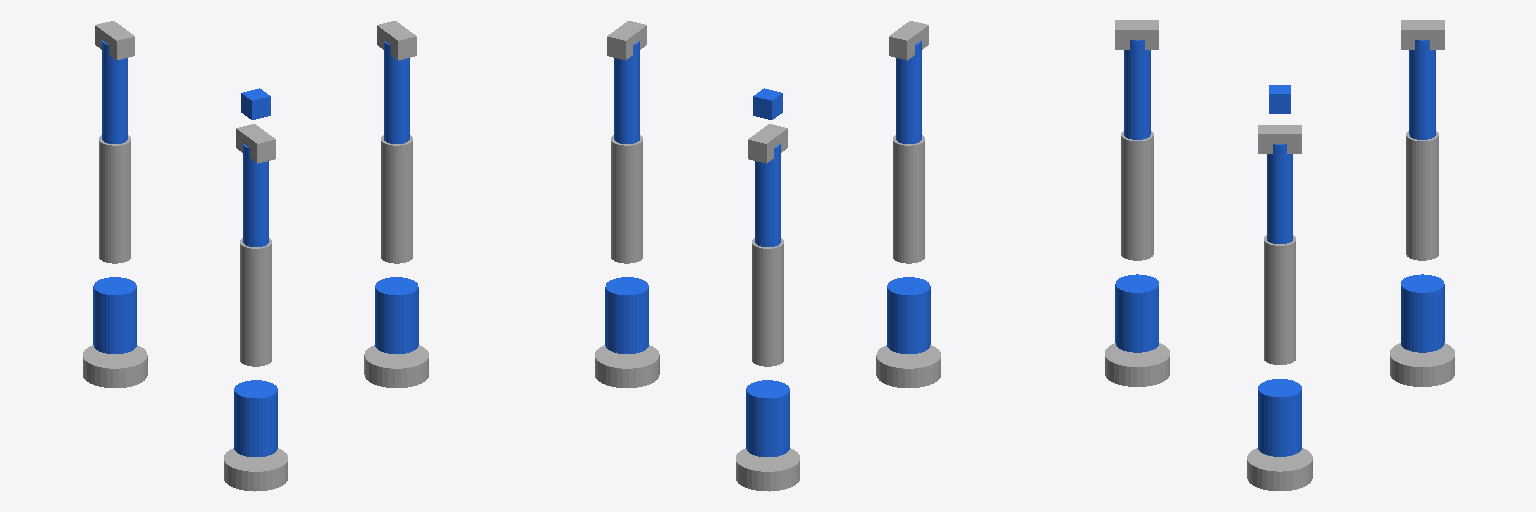
The robot description file, URDF, robot "three_4dof_arms":
<?xml version="1.0"?>
<robot name="three_4dof_arms">
<!-- 虚拟世界链接，作为唯一根链接 -->
<link name="world"/>

<joint name="world_to_arm1" type="fixed">
  <parent link="world"/>
  <child link="arm1_base_link"/>
  <origin xyz="0.15 0 0" rpy="0 0 0"/>
</joint>

<joint name="world_to_arm2" type="fixed">
  <parent link="world"/>
  <child link="arm2_base_link"/>
  <origin xyz="-0.075 0.1299038 0" rpy="0 0 0"/>
</joint>

<joint name="world_to_arm3" type="fixed">
  <parent link="world"/>
  <child link="arm3_base_link"/>
  <origin xyz="-0.075 -0.1299038 0" rpy="0 0 0"/>
</joint>

<!-- 摄像头连杆 -->
<link name="camera_link">
  <visual>
    <geometry><box size="0.02 0.02 0.02"/></geometry>
    <material name="blue"/>
  </visual>
</link>

<!-- 将摄像头固定到 world 正上方 0.3m 处 -->
<joint name="world_to_camera" type="fixed">
  <parent link="world"/>
  <child link="camera_link"/>
  <origin xyz="0 0 0.3" rpy="-1.57 0 0"/>  <!-- 绕X转-90度使镜头朝下 -->

</joint>
  <!-- 颜色定义（共用） -->
  <material name="blue">
    <color rgba="0.2 0.5 1.0 1.0"/>
  </material>
  <material name="silver">
    <color rgba="0.75 0.75 0.75 1.0"/>
  </material>

  <!-- ========== 臂 1 ========== -->
  <link name="arm1_base_link">
    <visual>
      <geometry><cylinder radius="0.03" length="0.02"/></geometry>
      <material name="silver"/>
    </visual>
    <collision>
      <geometry><cylinder radius="0.03" length="0.02"/></geometry>
    </collision>
  </link>

  <joint name="arm1_joint1" type="revolute">
    <parent link="arm1_base_link"/>
    <child link="arm1_link1"/>
    <origin xyz="0 0 0.02" rpy="0 0 0"/>
    <axis xyz="0 0 1"/>
    <limit lower="-3.14" upper="3.14" effort="0.5" velocity="1.0"/>
  </joint>

  <link name="arm1_link1">
    <visual>
      <geometry><cylinder radius="0.02" length="0.06"/></geometry>
      <origin rpy="0 0 0" xyz="0 0 0.03"/>
      <material name="blue"/>
    </visual>
    <collision>
      <geometry><cylinder radius="0.02" length="0.06"/></geometry>
      <origin rpy="0 0 0" xyz="0 0 0.03"/>
    </collision>
  </link>

  <joint name="arm1_joint2" type="revolute">
    <parent link="arm1_link1"/>
    <child link="arm1_link2"/>
    <origin xyz="0 0 0.09" rpy="0 0 0"/>
    <axis xyz="0 1 0"/>
    <limit lower="-1.57" upper="1.57" effort="0.5" velocity="1.0"/>
  </joint>

  <link name="arm1_link2">
    <visual>
      <geometry><cylinder radius="0.015" length="0.12"/></geometry>
      <origin rpy="0 0 0" xyz="0 0 0.06"/>
      <material name="silver"/>
    </visual>
    <collision>
      <geometry><cylinder radius="0.015" length="0.12"/></geometry>
      <origin rpy="0 0 0" xyz="0 0 0.06"/>
    </collision>
  </link>

  <joint name="arm1_joint3" type="revolute">
    <parent link="arm1_link2"/>
    <child link="arm1_link3"/>
    <origin xyz="0 0 0.12" rpy="0 0 0"/>
    <axis xyz="0 1 0"/>
    <limit lower="-1.57" upper="1.57" effort="0.5" velocity="1.0"/>
  </joint>

  <link name="arm1_link3">
    <visual>
      <geometry><cylinder radius="0.012" length="0.10"/></geometry>
      <origin rpy="0 0 0" xyz="0 0 0.05"/>
      <material name="blue"/>
    </visual>
    <collision>
      <geometry><cylinder radius="0.012" length="0.10"/></geometry>
      <origin rpy="0 0 0" xyz="0 0 0.05"/>
    </collision>
  </link>

  <joint name="arm1_joint4" type="fixed">
    <parent link="arm1_link3"/>
    <child link="arm1_link4"/>
    <origin xyz="0 0 0.10" rpy="0 0 0"/>
  </joint>

  <link name="arm1_link4">
    <visual>
      <geometry><box size="0.02 0.04 0.02"/></geometry>
      <material name="silver"/>
    </visual>
    <collision>
      <geometry><box size="0.02 0.04 0.02"/></geometry>
    </collision>
  </link>

  <!-- ========== 臂 2 ========== -->
  <link name="arm2_base_link">
    <visual>
      <geometry><cylinder radius="0.03" length="0.02"/></geometry>
      <material name="silver"/>
    </visual>
    <collision>
      <geometry><cylinder radius="0.03" length="0.02"/></geometry>
    </collision>
  </link>

  <joint name="arm2_joint1" type="revolute">
    <parent link="arm2_base_link"/>
    <child link="arm2_link1"/>
    <origin xyz="0 0 0.02" rpy="0 0 0"/>
    <axis xyz="0 0 1"/>
    <limit lower="-3.14" upper="3.14" effort="0.5" velocity="1.0"/>
  </joint>

  <link name="arm2_link1">
    <visual>
      <geometry><cylinder radius="0.02" length="0.06"/></geometry>
      <origin rpy="0 0 0" xyz="0 0 0.03"/>
      <material name="blue"/>
    </visual>
    <collision>
      <geometry><cylinder radius="0.02" length="0.06"/></geometry>
      <origin rpy="0 0 0" xyz="0 0 0.03"/>
    </collision>
  </link>

  <joint name="arm2_joint2" type="revolute">
    <parent link="arm2_link1"/>
    <child link="arm2_link2"/>
    <origin xyz="0 0 0.09" rpy="0 0 0"/>
    <axis xyz="0 1 0"/>
    <limit lower="-1.57" upper="1.57" effort="0.5" velocity="1.0"/>
  </joint>

  <link name="arm2_link2">
    <visual>
      <geometry><cylinder radius="0.015" length="0.12"/></geometry>
      <origin rpy="0 0 0" xyz="0 0 0.06"/>
      <material name="silver"/>
    </visual>
    <collision>
      <geometry><cylinder radius="0.015" length="0.12"/></geometry>
      <origin rpy="0 0 0" xyz="0 0 0.06"/>
    </collision>
  </link>

  <joint name="arm2_joint3" type="revolute">
    <parent link="arm2_link2"/>
    <child link="arm2_link3"/>
    <origin xyz="0 0 0.12" rpy="0 0 0"/>
    <axis xyz="0 1 0"/>
    <limit lower="-1.57" upper="1.57" effort="0.5" velocity="1.0"/>
  </joint>

  <link name="arm2_link3">
    <visual>
      <geometry><cylinder radius="0.012" length="0.10"/></geometry>
      <origin rpy="0 0 0" xyz="0 0 0.05"/>
      <material name="blue"/>
    </visual>
    <collision>
      <geometry><cylinder radius="0.012" length="0.10"/></geometry>
      <origin rpy="0 0 0" xyz="0 0 0.05"/>
    </collision>
  </link>

  <joint name="arm2_joint4" type="fixed">
    <parent link="arm2_link3"/>
    <child link="arm2_link4"/>
    <origin xyz="0 0 0.10" rpy="0 0 0"/>
  </joint>

  <link name="arm2_link4">
    <visual>
      <geometry><box size="0.02 0.04 0.02"/></geometry>
      <material name="silver"/>
    </visual>
    <collision>
      <geometry><box size="0.02 0.04 0.02"/></geometry>
    </collision>
  </link>

  <!-- ========== 臂 3 ========== -->
  <link name="arm3_base_link">
    <visual>
      <geometry><cylinder radius="0.03" length="0.02"/></geometry>
      <material name="silver"/>
    </visual>
    <collision>
      <geometry><cylinder radius="0.03" length="0.02"/></geometry>
    </collision>
  </link>

  <joint name="arm3_joint1" type="revolute">
    <parent link="arm3_base_link"/>
    <child link="arm3_link1"/>
    <origin xyz="0 0 0.02" rpy="0 0 0"/>
    <axis xyz="0 0 1"/>
    <limit lower="-3.14" upper="3.14" effort="0.5" velocity="1.0"/>
  </joint>

  <link name="arm3_link1">
    <visual>
      <geometry><cylinder radius="0.02" length="0.06"/></geometry>
      <origin rpy="0 0 0" xyz="0 0 0.03"/>
      <material name="blue"/>
    </visual>
    <collision>
      <geometry><cylinder radius="0.02" length="0.06"/></geometry>
      <origin rpy="0 0 0" xyz="0 0 0.03"/>
    </collision>
  </link>

  <joint name="arm3_joint2" type="revolute">
    <parent link="arm3_link1"/>
    <child link="arm3_link2"/>
    <origin xyz="0 0 0.09" rpy="0 0 0"/>
    <axis xyz="0 1 0"/>
    <limit lower="-1.57" upper="1.57" effort="0.5" velocity="1.0"/>
  </joint>

  <link name="arm3_link2">
    <visual>
      <geometry><cylinder radius="0.015" length="0.12"/></geometry>
      <origin rpy="0 0 0" xyz="0 0 0.06"/>
      <material name="silver"/>
    </visual>
    <collision>
      <geometry><cylinder radius="0.015" length="0.12"/></geometry>
      <origin rpy="0 0 0" xyz="0 0 0.06"/>
    </collision>
  </link>

  <joint name="arm3_joint3" type="revolute">
    <parent link="arm3_link2"/>
    <child link="arm3_link3"/>
    <origin xyz="0 0 0.12" rpy="0 0 0"/>
    <axis xyz="0 1 0"/>
    <limit lower="-1.57" upper="1.57" effort="0.5" velocity="1.0"/>
  </joint>

  <link name="arm3_link3">
    <visual>
      <geometry><cylinder radius="0.012" length="0.10"/></geometry>
      <origin rpy="0 0 0" xyz="0 0 0.05"/>
      <material name="blue"/>
    </visual>
    <collision>
      <geometry><cylinder radius="0.012" length="0.10"/></geometry>
      <origin rpy="0 0 0" xyz="0 0 0.05"/>
    </collision>
  </link>

  <joint name="arm3_joint4" type="fixed">
    <parent link="arm3_link3"/>
    <child link="arm3_link4"/>
    <origin xyz="0 0 0.10" rpy="0 0 0"/>
  </joint>

  <link name="arm3_link4">
    <visual>
      <geometry><box size="0.02 0.04 0.02"/></geometry>
      <material name="silver"/>
    </visual>
    <collision>
      <geometry><box size="0.02 0.04 0.02"/></geometry>
    </collision>
  </link>

</robot>

--- Facts derived from the render (not from the file) ---
3 views of the same robot in one strip: view 1: azimuth 30°, elevation 25°; view 2: azimuth 150°, elevation 25°; view 3: azimuth 270°, elevation 25° (orthographic).
Robot: three_4dof_arms — 17 links, 16 joints (9 revolute, 7 fixed); root link world; default pose: every joint at zero.
Visible links, largest first — view 1: arm3_link2, arm1_link2, arm2_link2, arm3_link1, arm1_link1, arm2_link1, arm2_link3, arm1_link3, arm3_link3, arm1_base_link, arm2_base_link, arm3_base_link (+4 smaller); view 2: arm2_link2, arm1_link2, arm3_link2, arm2_link1, arm1_link1, arm3_link1, arm3_link3, arm1_link3, arm2_link3, arm1_base_link, arm3_base_link, arm2_base_link (+4 smaller); view 3: arm2_link2, arm3_link2, arm1_link2, arm1_link1, arm2_link1, arm3_link1, arm2_link3, arm3_link3, arm1_link3, arm1_base_link, arm2_base_link, arm3_base_link (+4 smaller).
Link boxes in pixels (x1,y1,x2,y2): arm3_link2: (240,238,271,366); arm1_link2: (381,135,412,263); arm2_link2: (99,135,130,263); arm3_link1: (234,380,277,456); arm1_link1: (375,277,418,353); arm2_link1: (93,277,136,353); arm2_link3: (102,40,127,143); arm1_link3: (384,41,409,143); arm3_link3: (243,144,268,246); arm1_base_link: (364,345,428,387); arm2_base_link: (83,345,147,387); arm3_base_link: (224,448,287,491); arm2_link2: (752,238,783,366); arm1_link2: (611,135,642,263); arm3_link2: (893,135,924,263); arm2_link1: (746,380,789,456); arm1_link1: (605,277,648,353); arm3_link1: (887,277,930,353); arm3_link3: (896,40,921,143); arm1_link3: (614,41,639,143); arm2_link3: (755,144,780,246); arm1_base_link: (595,345,659,387); arm3_base_link: (876,345,940,387); arm2_base_link: (736,448,799,491); arm2_link2: (1406,131,1438,260); arm3_link2: (1121,131,1153,260); arm1_link2: (1264,235,1295,364); arm1_link1: (1258,379,1301,456); arm2_link1: (1401,274,1444,352); arm3_link1: (1115,274,1158,352); arm2_link3: (1409,40,1435,139); arm3_link3: (1124,40,1150,139); arm1_link3: (1267,144,1292,243); arm1_base_link: (1247,448,1312,490); arm2_base_link: (1390,343,1454,386); arm3_base_link: (1105,343,1169,386).
Size in the robot's own frame: 0.285 by 0.3198 by 0.35 metres.
Geometry: primitives only (box / cylinder / sphere), no mesh files.
